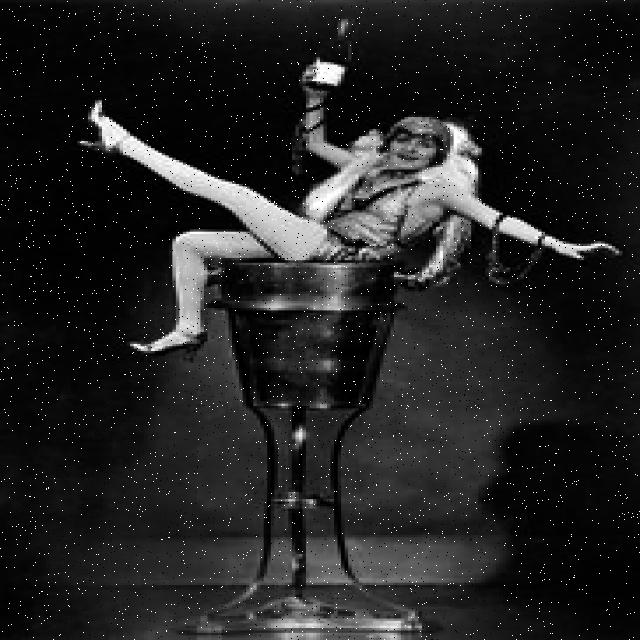picture: (38, 16, 627, 638)
